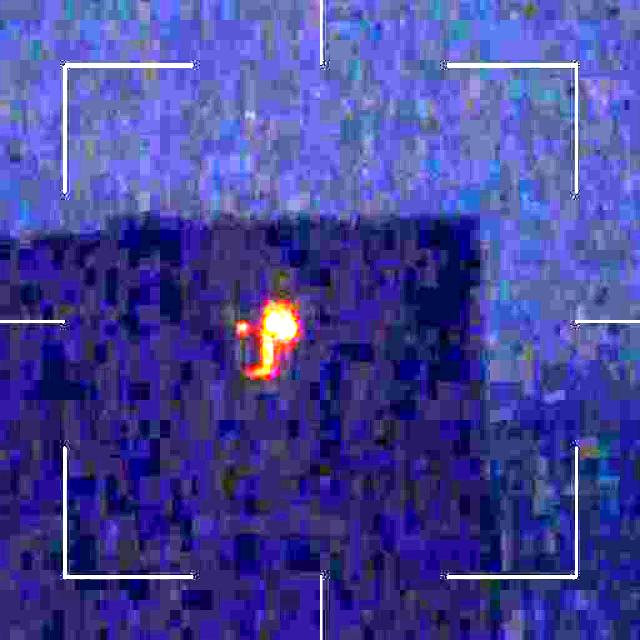bird: (224, 305, 294, 374)
